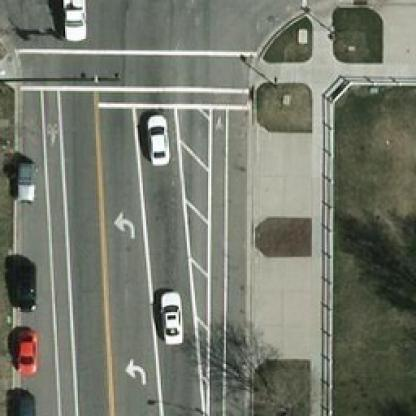car: (140, 109, 172, 166), (154, 289, 186, 346), (8, 254, 41, 309), (60, 0, 91, 39), (10, 167, 44, 202), (13, 325, 36, 374)
